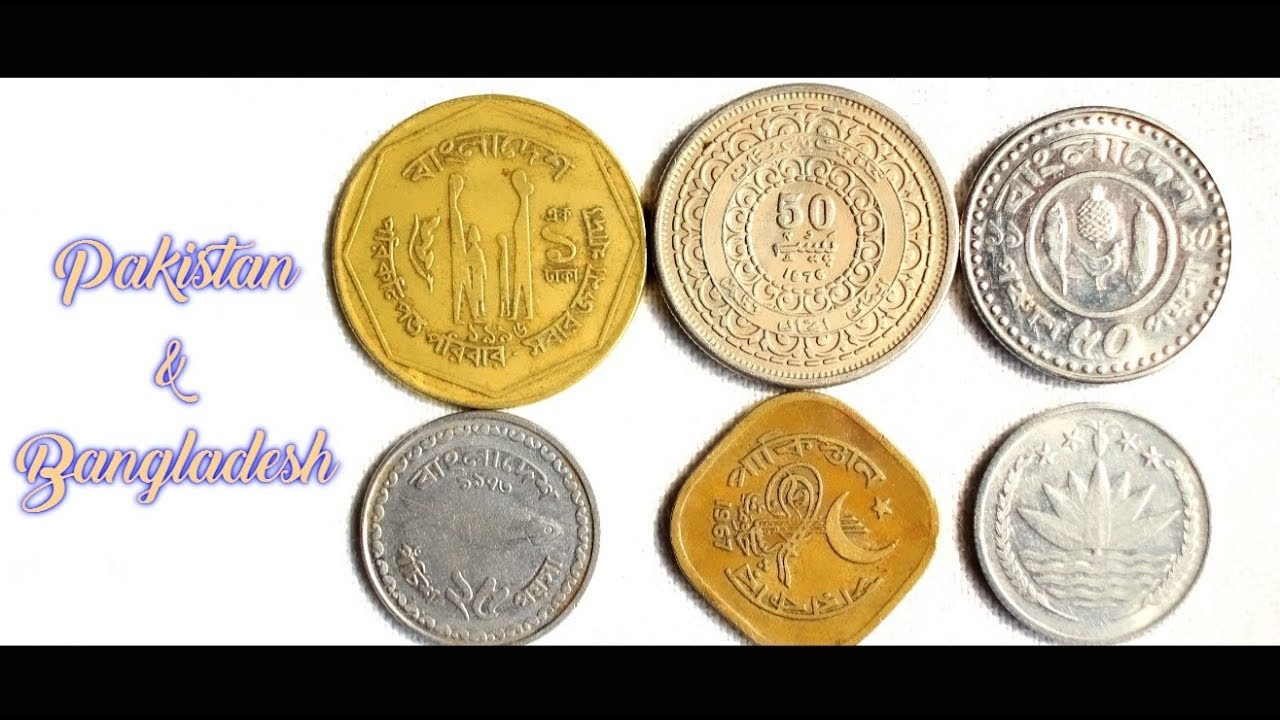2 taka coin: (328, 96, 645, 405)
